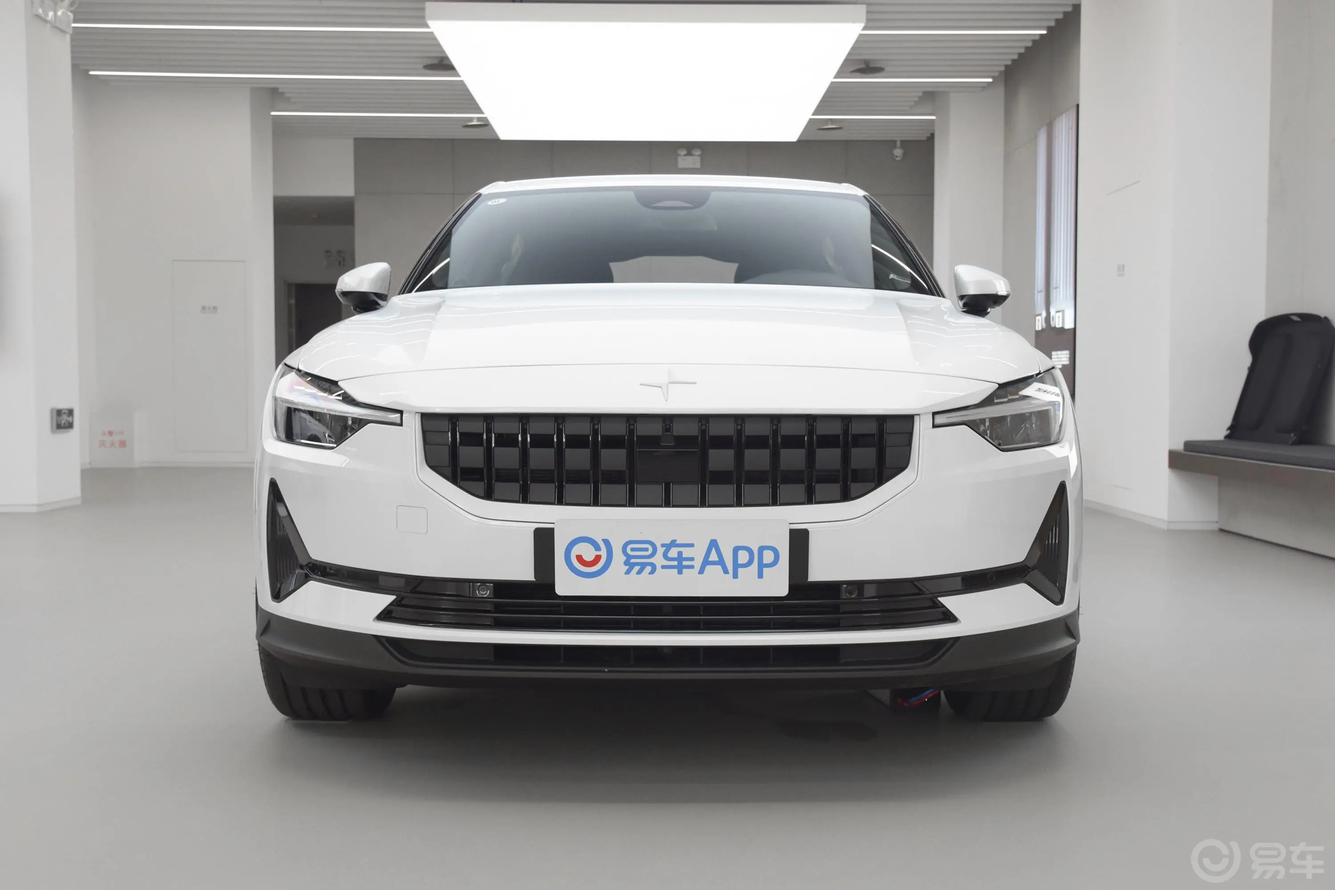Polestar: (639, 368, 696, 400)
